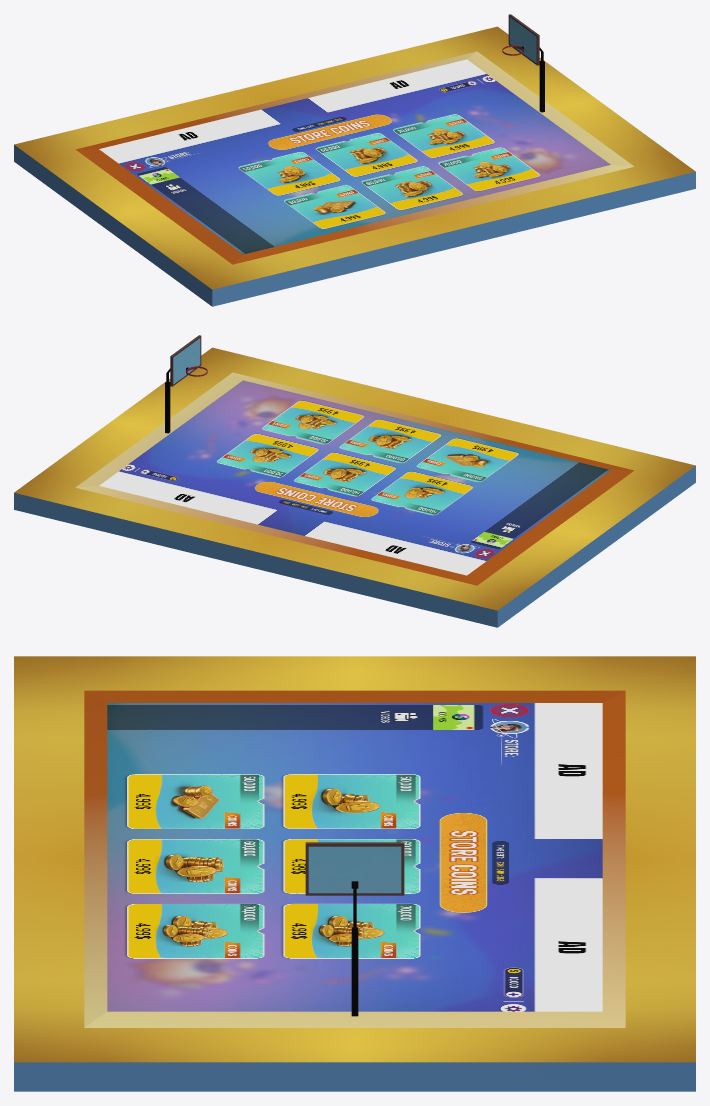
File: court.fbx
The picture shows the model from 3 angles, top to bottom: view 1: azimuth 30°, elevation 25°; view 2: azimuth 150°, elevation 25°; view 3: azimuth 270°, elevation 25°; orthographic projection. The views are drawn at different scales.
Parts seen in each view (by area): view 1: Court, Base, Basketball_Stand; view 2: Court, Base, Basketball_Stand; view 3: Court, Base, Basketball_Stand.
Part boxes in pixels (left/top/right/bottom): Court: left=75, top=51, right=633, bottom=264; Base: left=14, top=26, right=695, bottom=306; Basketball_Stand: left=502, top=14, right=544, bottom=112; Court: left=76, top=372, right=634, bottom=585; Base: left=14, top=347, right=695, bottom=627; Basketball_Stand: left=165, top=335, right=207, bottom=433; Court: left=84, top=690, right=625, bottom=1027; Base: left=14, top=656, right=695, bottom=1091; Basketball_Stand: left=305, top=842, right=404, bottom=1016.
Bounding box in the file's own units: 579 × 125 × 411.
